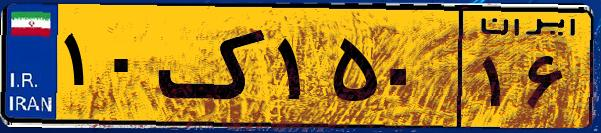0: (385, 28, 445, 110), (110, 28, 158, 98)
1: (270, 28, 330, 110), (57, 26, 110, 100), (475, 38, 525, 113)
5: (330, 28, 385, 110)
6: (525, 38, 570, 115)
ک: (158, 12, 270, 120)
